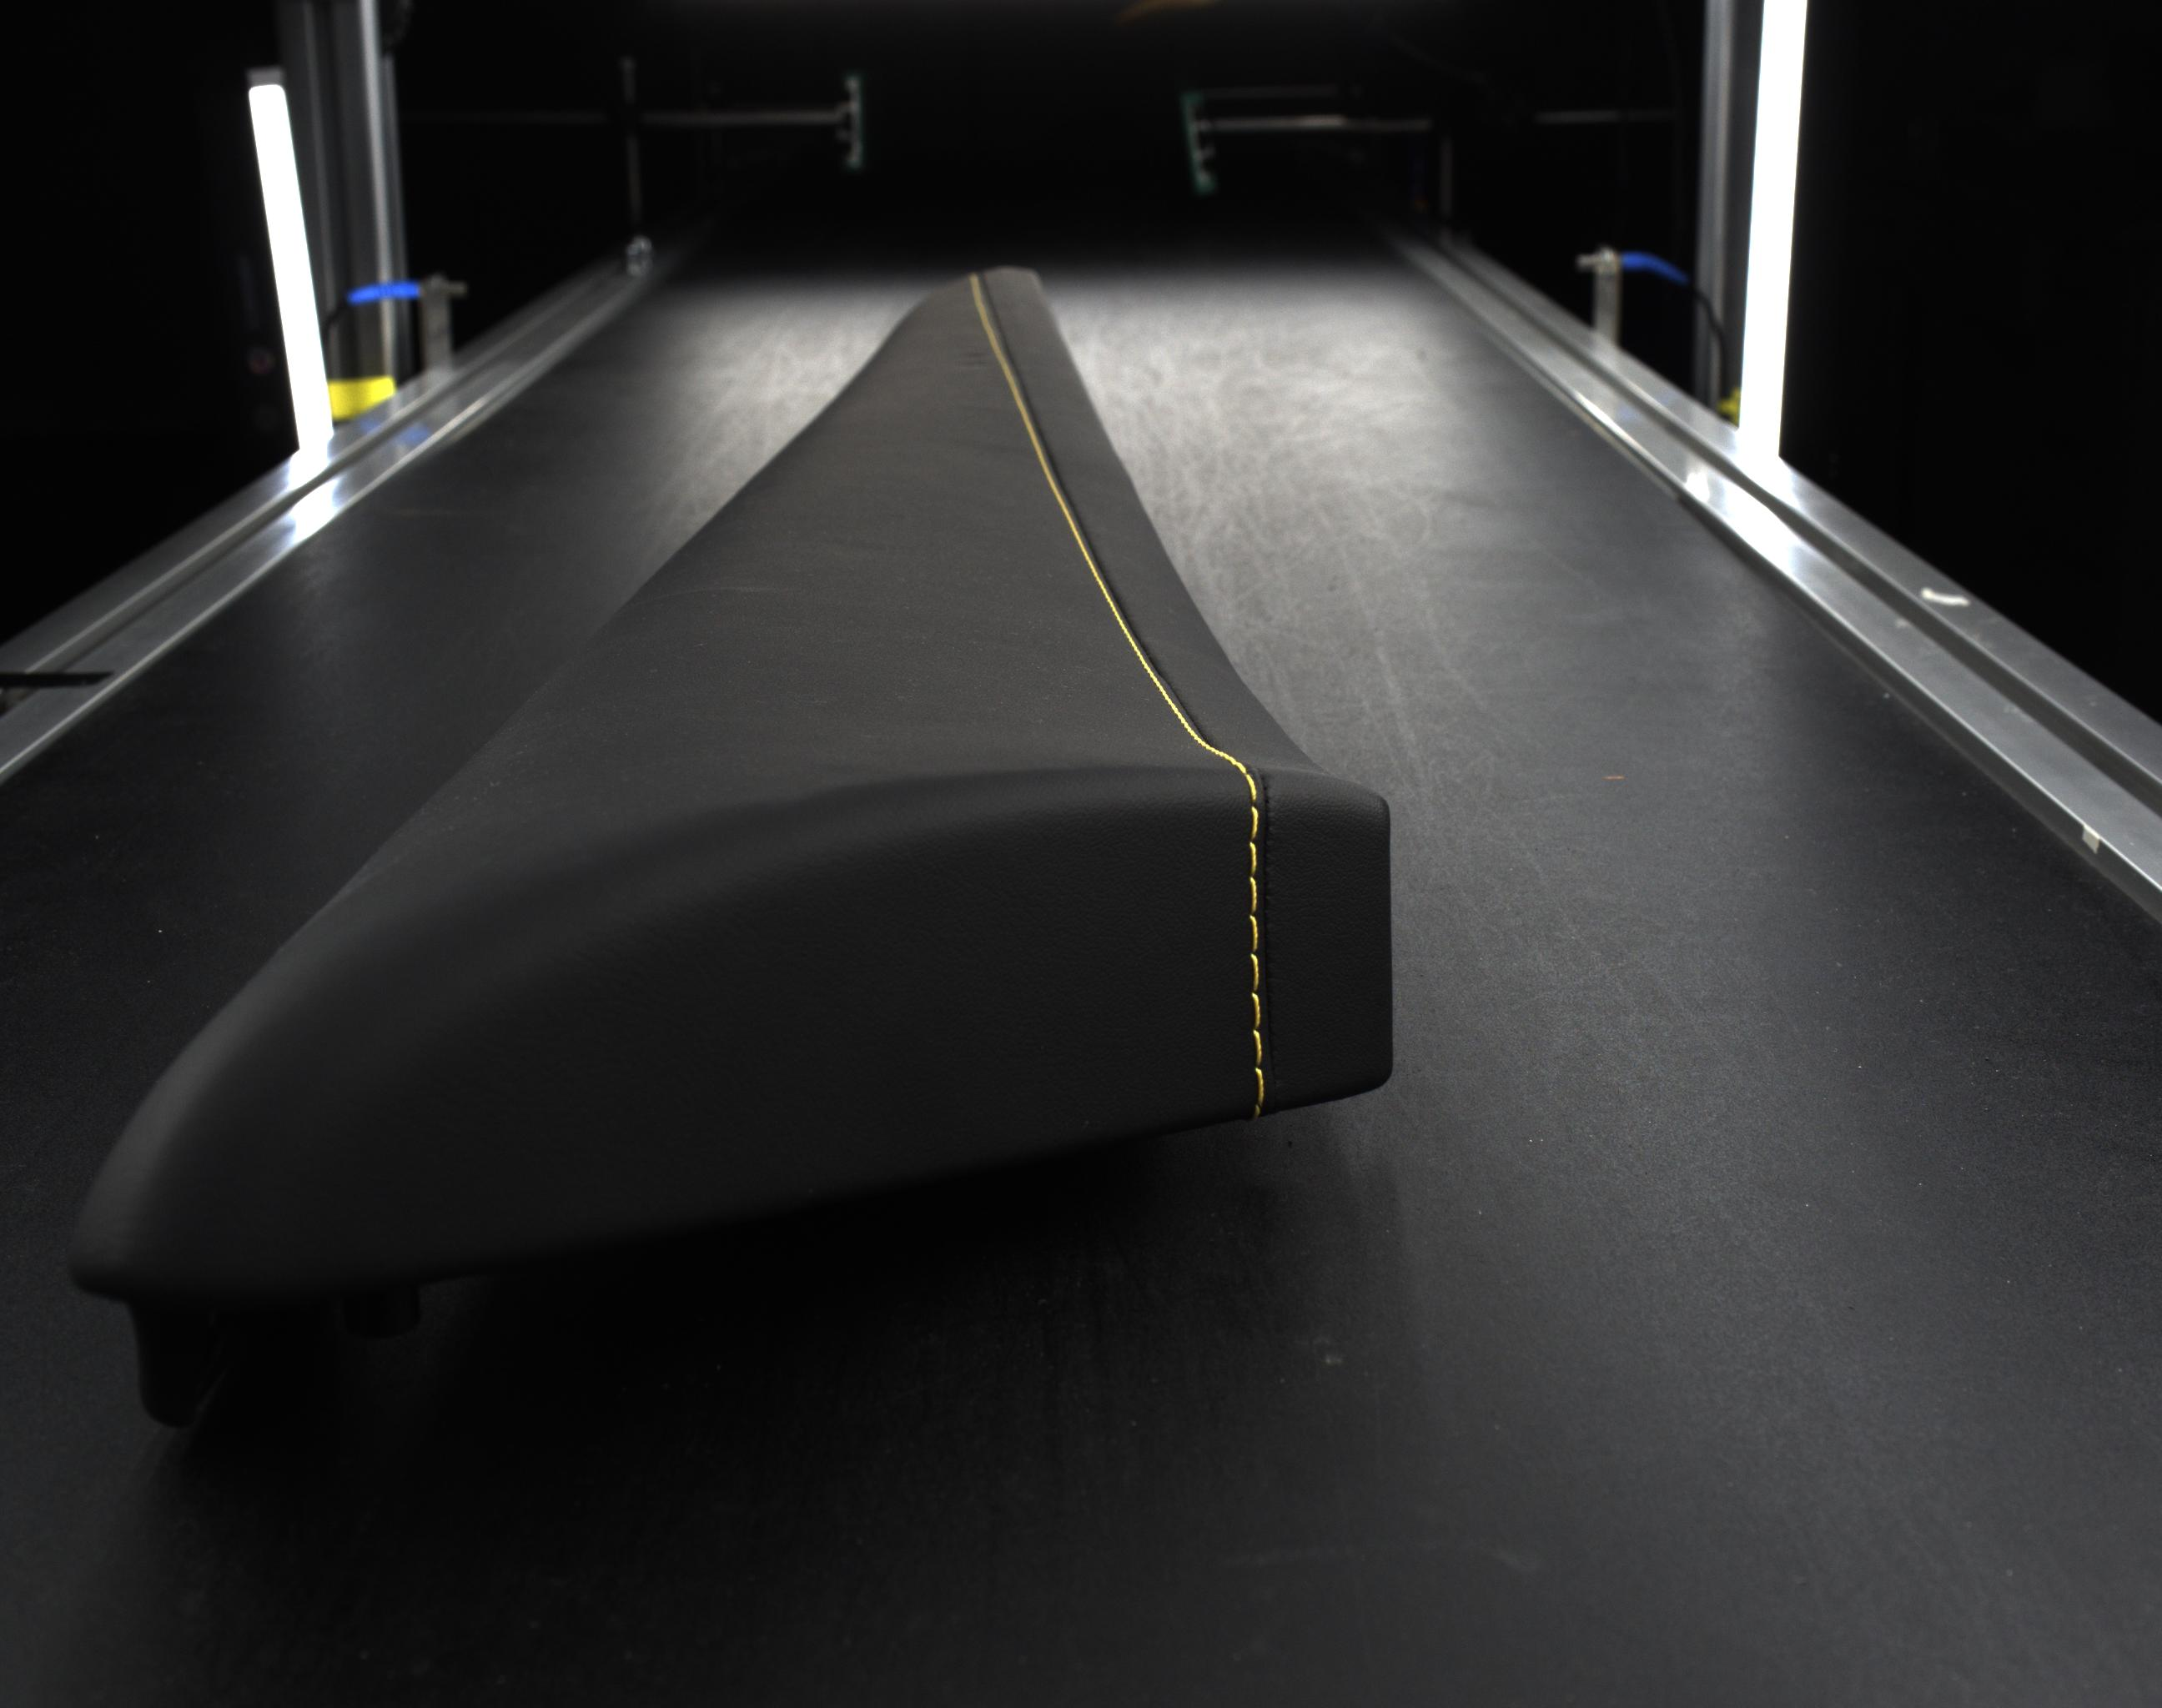vline: (1253, 1071, 1265, 1111), (1248, 915, 1260, 953), (1251, 992, 1264, 1029), (1251, 1032, 1264, 1066), (1249, 955, 1260, 990), (1249, 804, 1260, 837), (1248, 843, 1258, 874), (1248, 879, 1258, 911)
